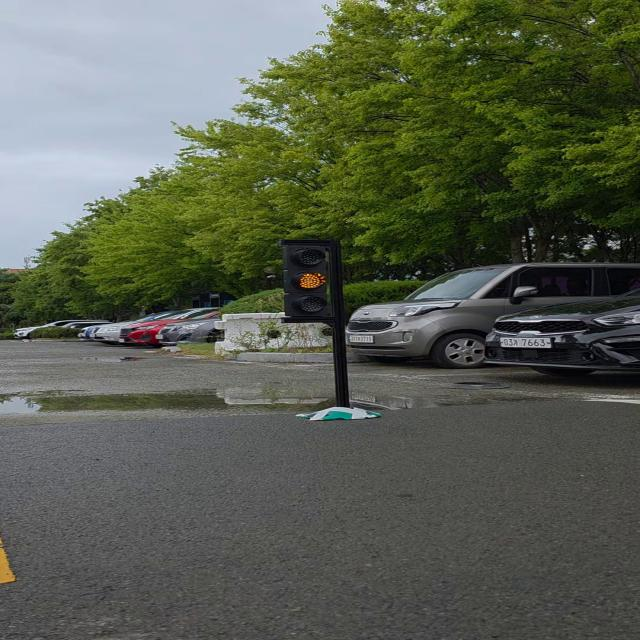yellow: (279, 235, 345, 323)
